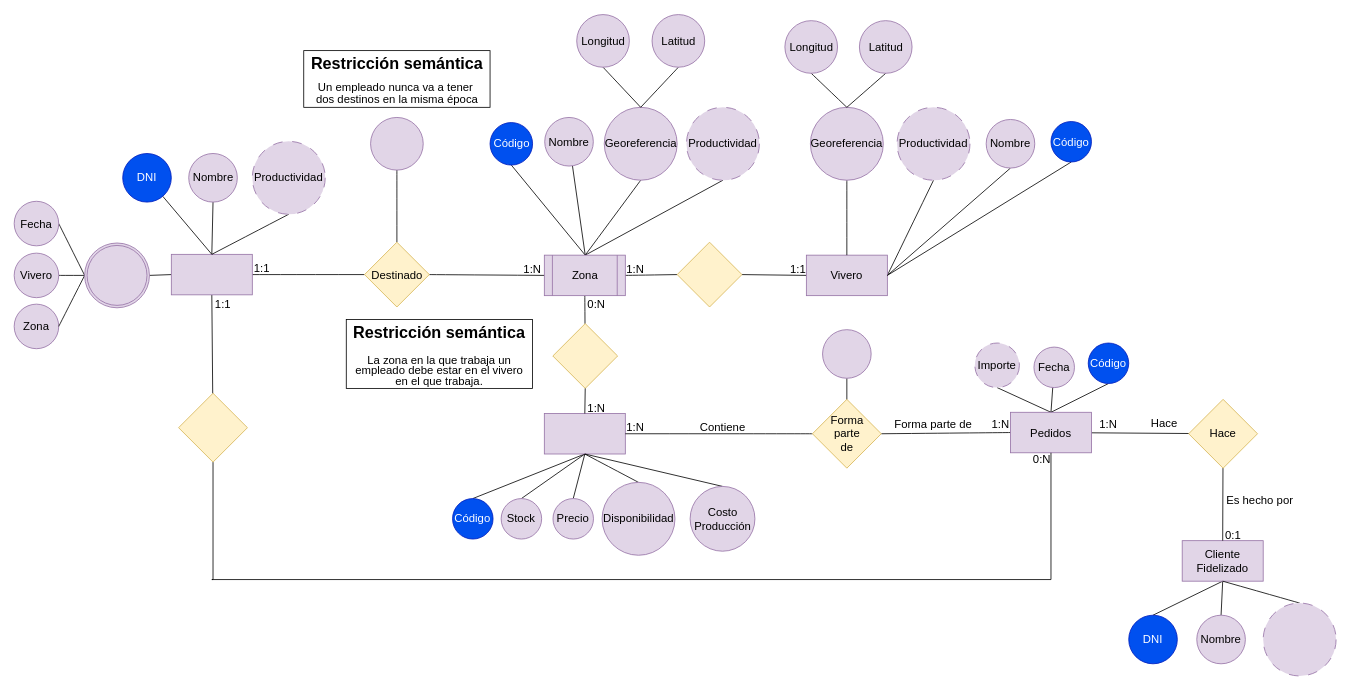
Image size: 1350x690. Some labels were removed from this diagram. The centre of each missing label's shape, as x and y in pixels:
Bonificaciones: the point at 1299,639
Cantidad: the point at 846,353
Empleado: the point at 211,274
Gestiona: the point at 212,427
Historial: the point at 116,275
Producto: the point at 584,433
Se asigna: the point at 585,355
Se divide: the point at 709,274
Época del año: the point at 396,143
